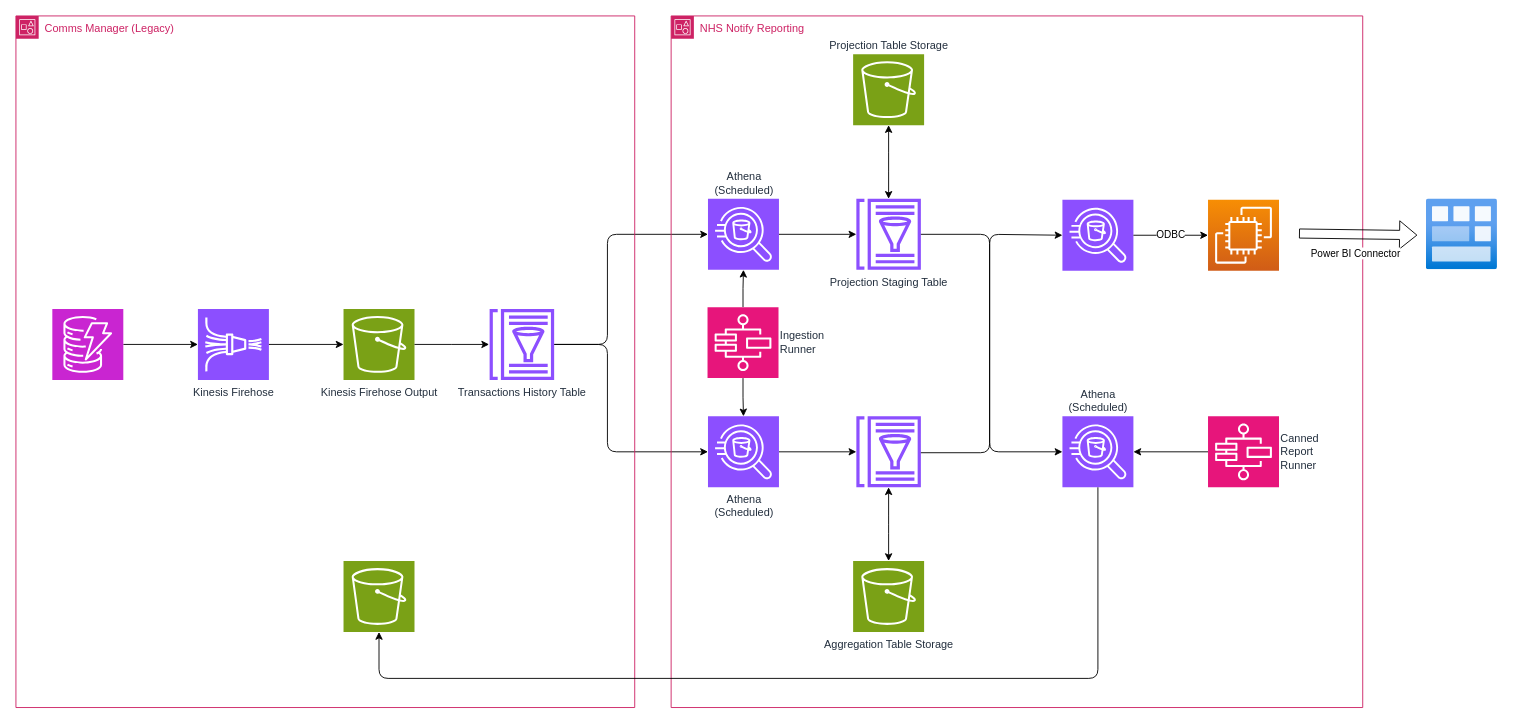
Image size: 1513x723. Some labels were removed from this diagram. The centre of each missing label's shape, as x and y in pixels:
Aggregation Staging Table: pixel 888 451
Athena (On Demand): pixel 1097 235
Canned Report Ingress: pixel 379 596
DynamoDB: pixel 87 344
Power BI: pixel 1461 233
PowerBI Gateway: pixel 1243 235
